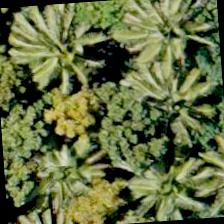Kelapa_Sawit: (122, 56, 218, 152), (17, 122, 113, 218), (8, 0, 104, 96), (119, 0, 215, 80), (127, 144, 222, 223)
